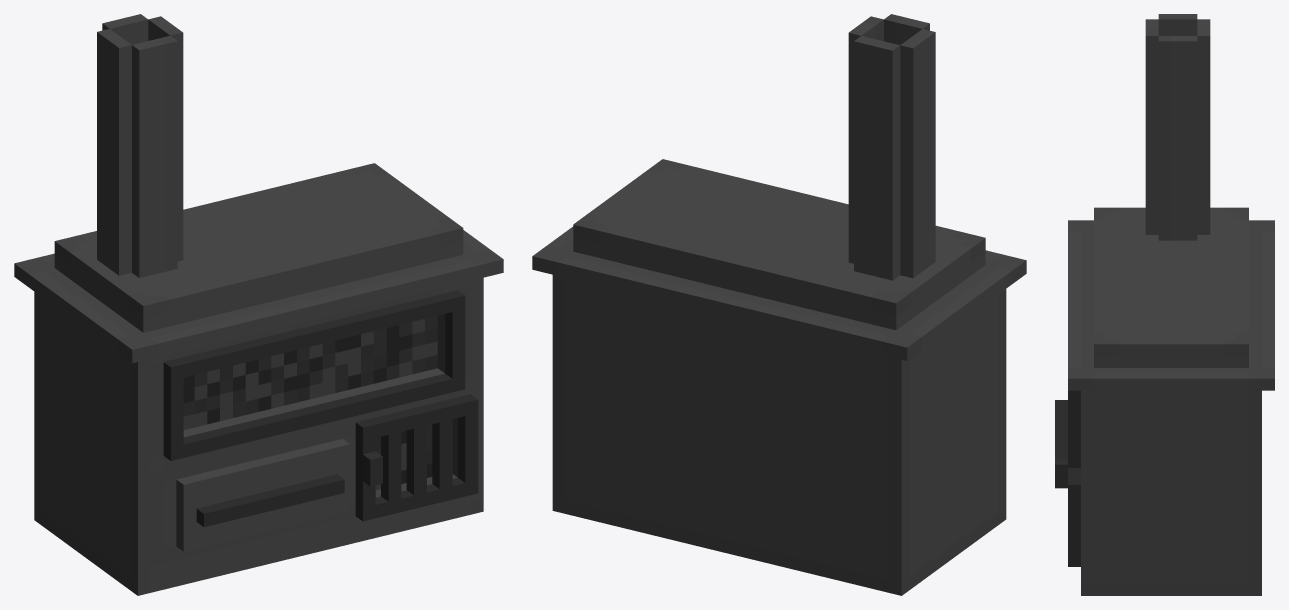
Rendered from Decor-29.obj.
3 renders of one model, left to right at view 1: azimuth 30°, elevation 25°; view 2: azimuth 150°, elevation 25°; view 3: azimuth 270°, elevation 25°, orthographic. The views are drawn at different scales.
Size of the model in its own units: 2.9 by 3.8 by 1.7.
Materials: 1 (1 with a texture image).
